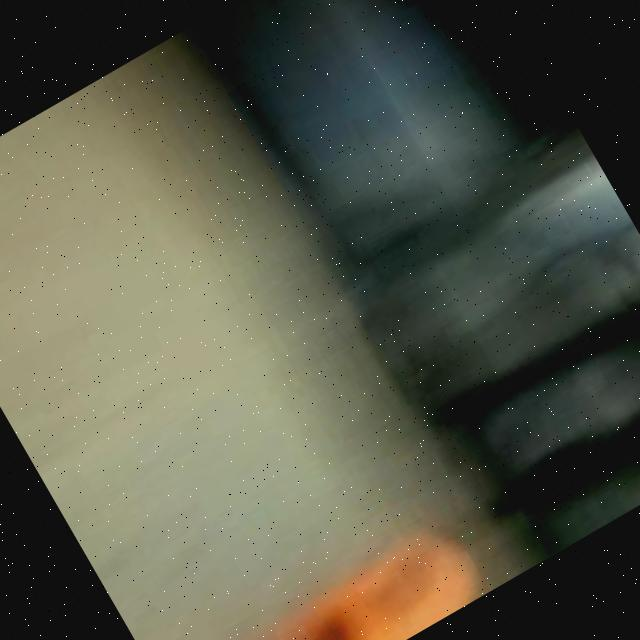ping-pong-ball: (236, 512, 495, 640)
